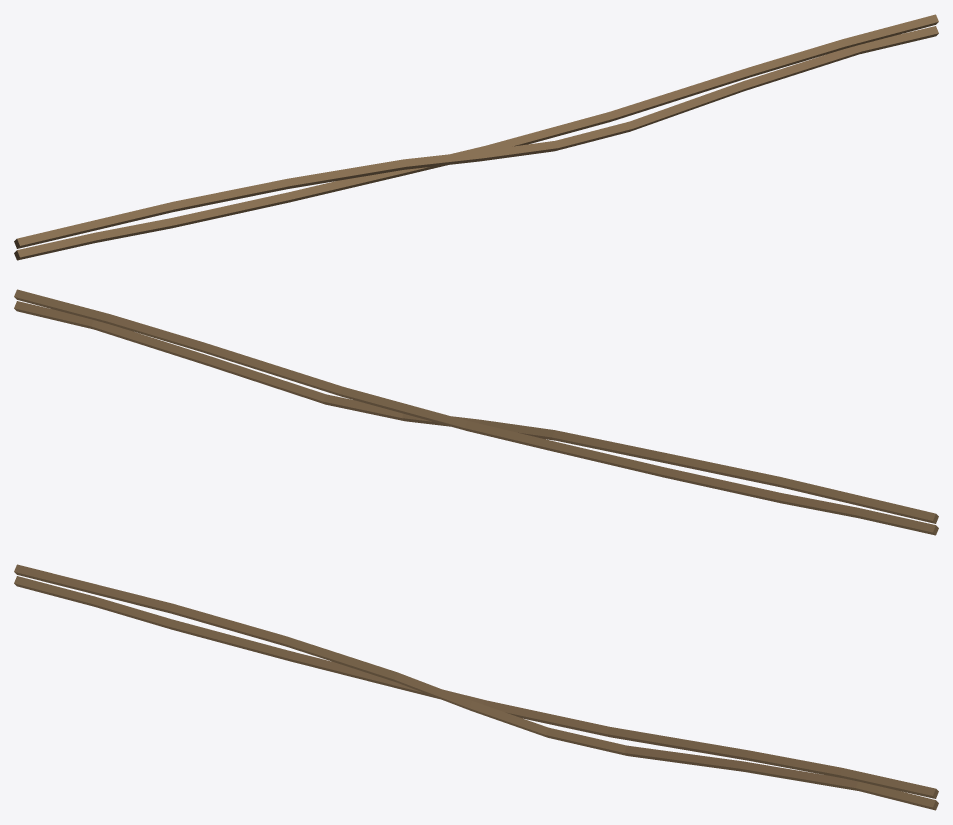
Rendered from SM_Prop_Wires_02.fbx.
The picture shows the model from 3 angles, top to bottom: view 1: azimuth 30°, elevation 25°; view 2: azimuth 150°, elevation 25°; view 3: azimuth 330°, elevation 25°; orthographic projection.
Visible parts, largest first — view 1: SM_Prop_Wires_02; view 2: SM_Prop_Wires_02; view 3: SM_Prop_Wires_02.
Part boxes in pixels (<box>): SM_Prop_Wires_02: <box>14,14,938,260</box>; SM_Prop_Wires_02: <box>14,289,938,535</box>; SM_Prop_Wires_02: <box>14,564,938,810</box>.
Size of the model in its own units: 250 by 10.75 by 4.84.
